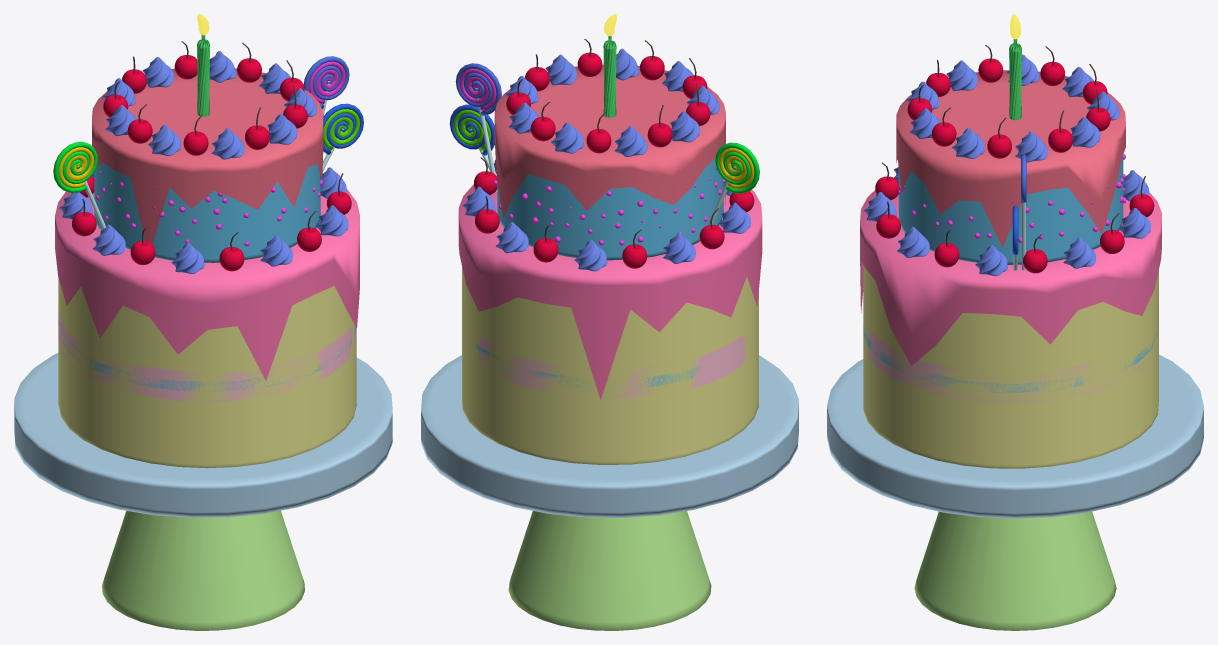
File: Cake.glb
The picture shows the model from 3 angles, left to right: view 1: azimuth 30°, elevation 25°; view 2: azimuth 150°, elevation 25°; view 3: azimuth 270°, elevation 25°; orthographic projection.
Parts seen in each view (by area): view 1: Cake, Cylinder.004, Icing, Cylinder.005, Icing.001, Cake.001, Cake.002, Star, Sphere, Star.001, Sphere.001, Cake.003 (+8 smaller); view 2: Cake, Cylinder.004, Icing, Cylinder.005, Icing.001, Cake.001, Star, Sphere, Cake.002, Star.001, Sphere.001, Spiral.003 (+8 smaller); view 3: Cake, Cylinder.004, Icing, Cylinder.005, Icing.001, Cake.001, Star, Sphere, Star.001, Cake.002, Sphere.001, Cake.003 (+2 smaller).
Boxes of the visible parts, x1=… form: Cake: x1=58, y1=278, x2=356, y2=468; Cylinder.004: x1=14, y1=353, x2=392, y2=517; Icing: x1=55, y1=189, x2=359, y2=380; Cylinder.005: x1=102, y1=510, x2=304, y2=630; Icing.001: x1=92, y1=68, x2=323, y2=244; Cake.001: x1=94, y1=162, x2=320, y2=262; Cake.002: x1=58, y1=309, x2=356, y2=402; Star: x1=102, y1=51, x2=316, y2=159; Sphere: x1=103, y1=55, x2=307, y2=155; Star.001: x1=59, y1=167, x2=348, y2=273; Sphere.001: x1=72, y1=176, x2=351, y2=271; Cake.003: x1=58, y1=319, x2=356, y2=392; Cake: x1=462, y1=266, x2=758, y2=464; Cylinder.004: x1=421, y1=355, x2=798, y2=517; Icing: x1=458, y1=184, x2=762, y2=399; Cylinder.005: x1=508, y1=511, x2=711, y2=630; Icing.001: x1=494, y1=64, x2=725, y2=217; Cake.001: x1=497, y1=159, x2=723, y2=260; Star: x1=505, y1=48, x2=719, y2=156; Sphere: x1=506, y1=52, x2=710, y2=153; Cake.002: x1=478, y1=334, x2=758, y2=398; Star.001: x1=462, y1=163, x2=750, y2=271; Sphere.001: x1=474, y1=171, x2=754, y2=268; Spiral.003: x1=715, y1=142, x2=759, y2=193; Cake: x1=863, y1=265, x2=1158, y2=468; Cylinder.004: x1=827, y1=354, x2=1203, y2=518; Icing: x1=860, y1=190, x2=1161, y2=365; Cylinder.005: x1=914, y1=511, x2=1116, y2=630; Icing.001: x1=896, y1=70, x2=1125, y2=247; Cake.001: x1=898, y1=155, x2=1123, y2=264; Star: x1=906, y1=54, x2=1119, y2=162; Sphere: x1=907, y1=58, x2=1110, y2=158; Star.001: x1=864, y1=167, x2=1150, y2=276; Cake.002: x1=866, y1=307, x2=1158, y2=403; Sphere.001: x1=875, y1=176, x2=1154, y2=273; Cake.003: x1=863, y1=316, x2=1158, y2=392.
Size of the model in its own units: 2.54 by 4.26 by 2.54.
